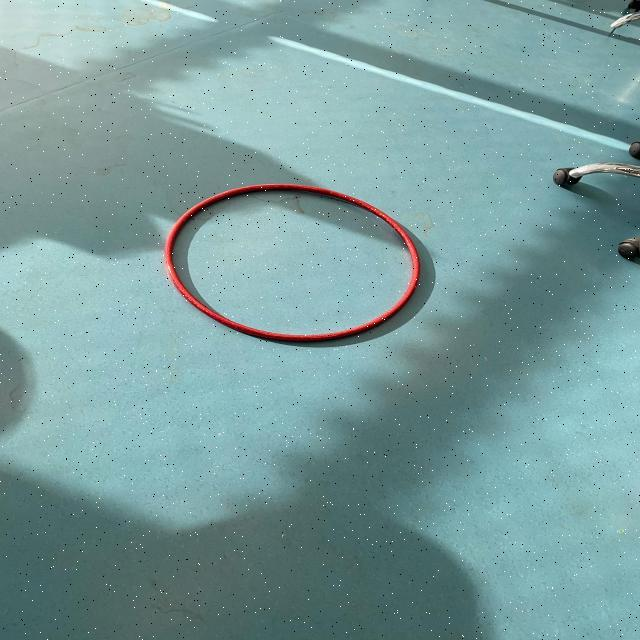Circle: (154, 178, 438, 350)
